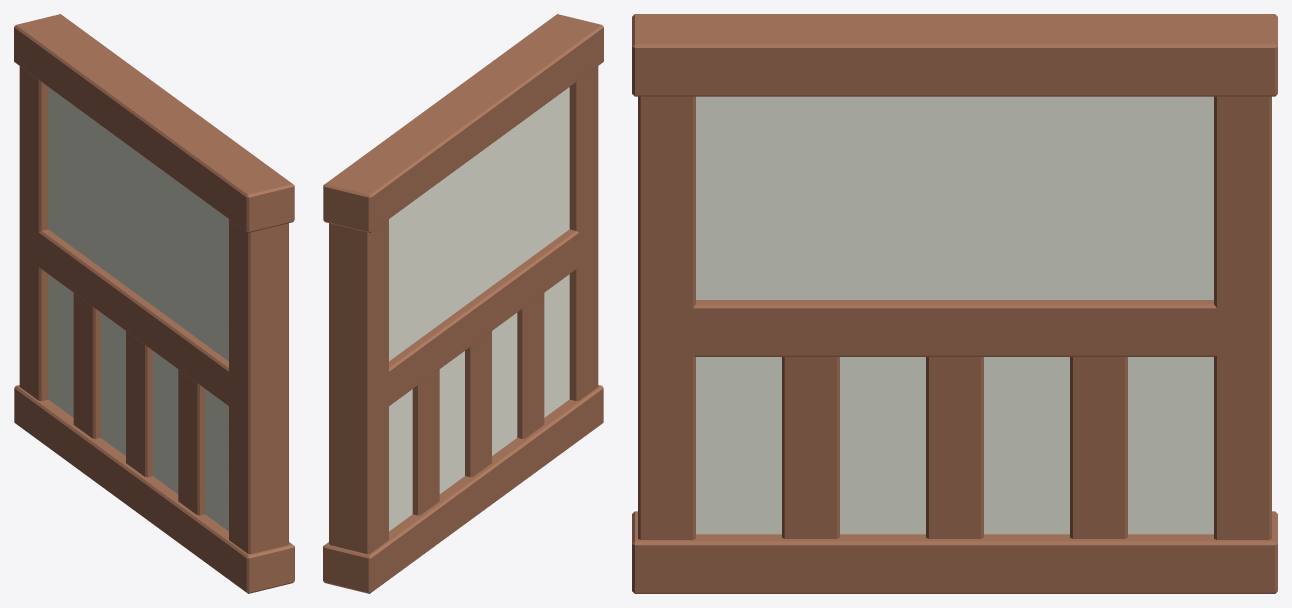
File: Wall.fbx
The picture shows the model from 3 angles, left to right: view 1: azimuth 30°, elevation 25°; view 2: azimuth 150°, elevation 25°; view 3: azimuth 270°, elevation 25°; orthographic projection. The views are drawn at different scales.
Visible parts, largest first — view 1: Wall; view 2: Wall; view 3: Wall.
Boxes of the visible parts, x1,y1,x2,y2 form: Wall: (14,14,294,593); Wall: (323,14,603,593); Wall: (632,14,1277,593).
Bounding box in the file's own units: 26.87 × 211 × 224.
